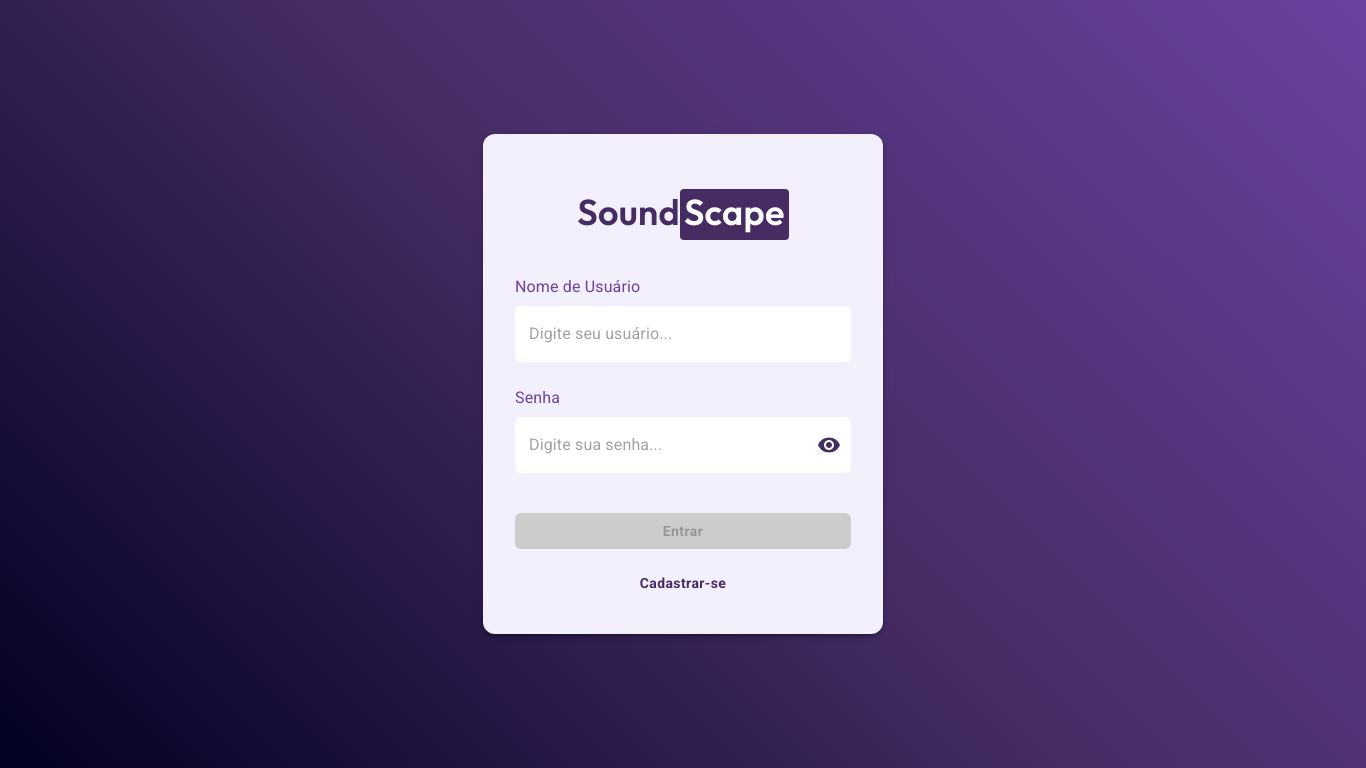
Test: Login Component › deve exibir notificação de erro quando o login falha
The width and height of the screenshot is (1366, 768).
Type "testuser" into the field labelled "Nome de Usuário" at (683, 334), box left=515, top=306, right=851, bottom=362
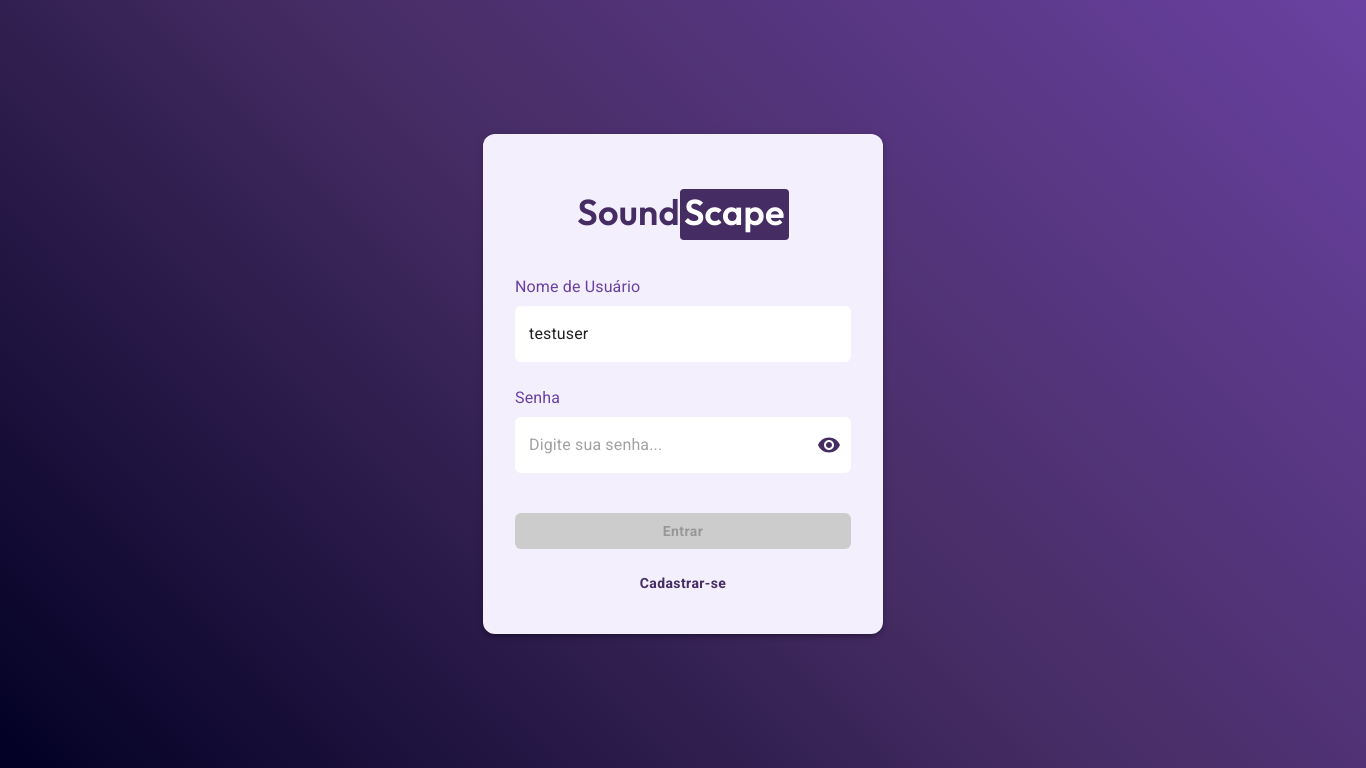
Type "wrongpassword" into the password field labelled "Senha" at (658, 445), box left=515, top=417, right=801, bottom=473
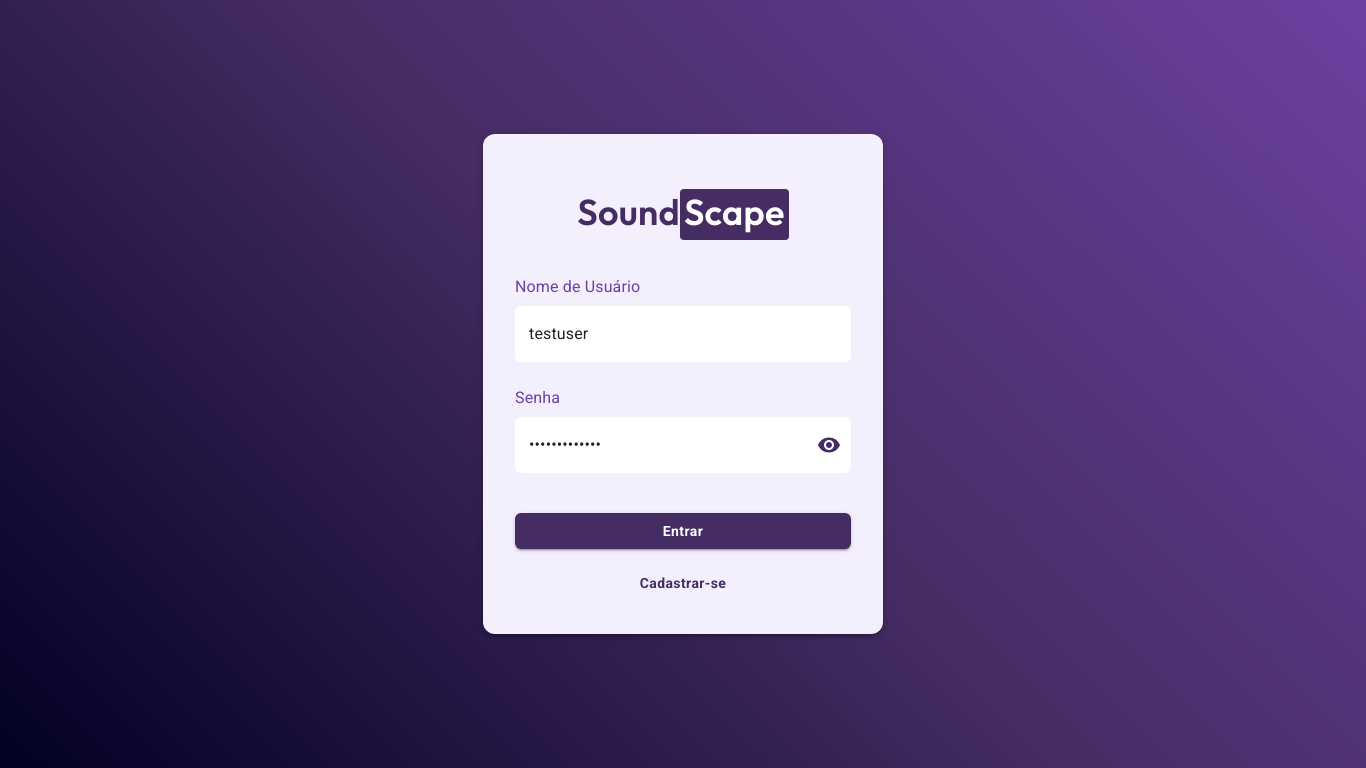
Click the button "Entrar" at (683, 531), box left=515, top=513, right=851, bottom=549
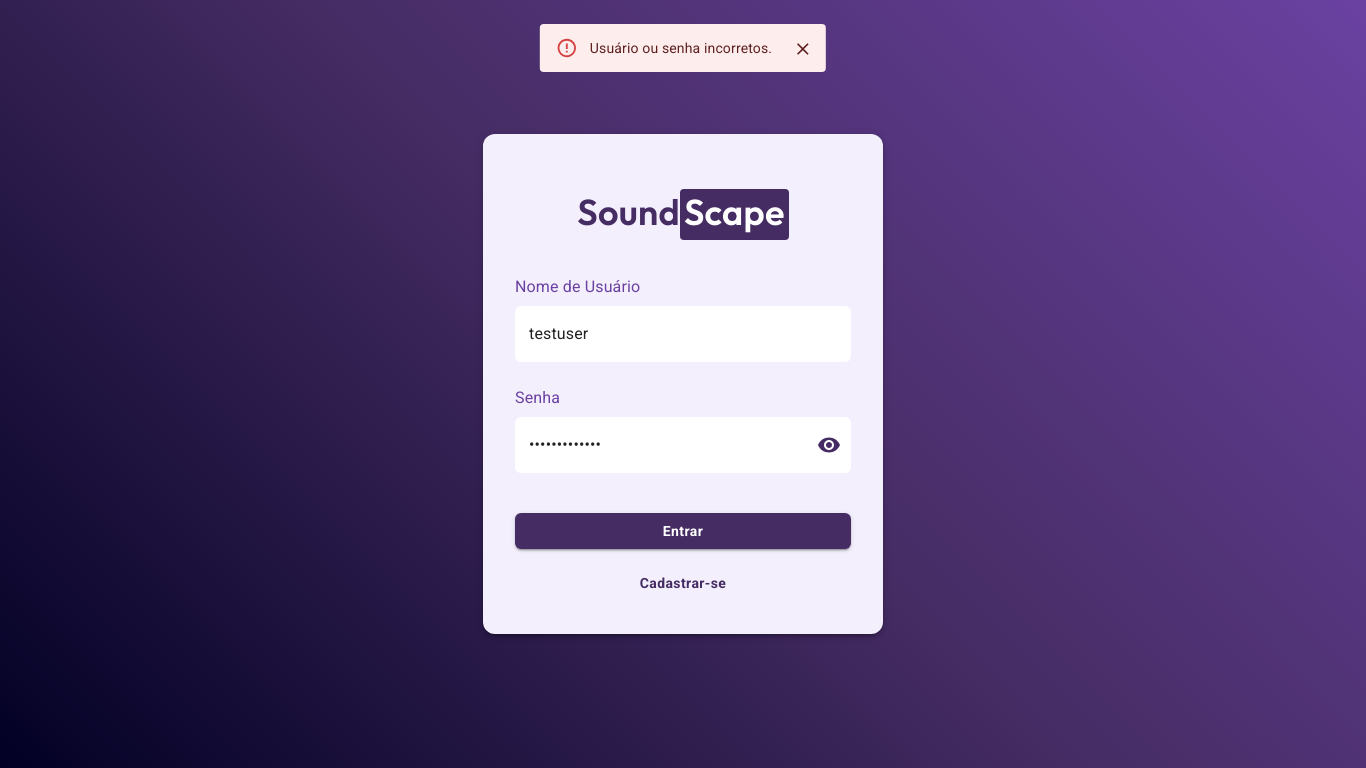
Result: the text "Usuário ou senha incorretos." is shown at left=590, top=40, right=772, bottom=56
